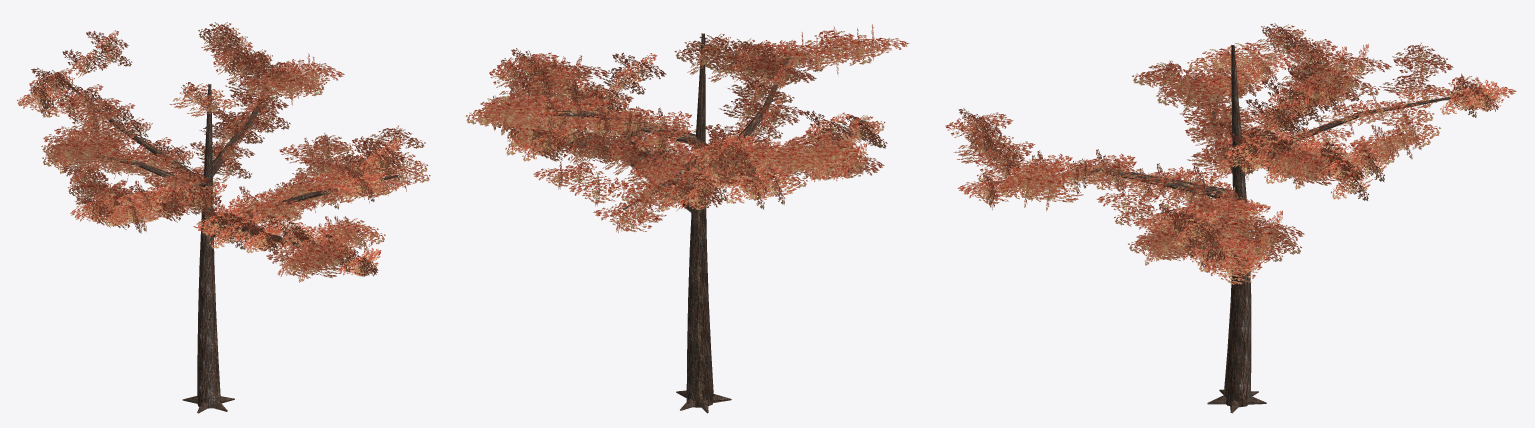
File: tree_3d_05_copper_lod1.glb
3 renders of one model, left to right at view 1: azimuth 30°, elevation 25°; view 2: azimuth 150°, elevation 25°; view 3: azimuth 270°, elevation 25°, orthographic. The views are drawn at different scales.
Visible parts, largest first — view 1: foliage_cards, wood_geometry; view 2: foliage_cards, wood_geometry; view 3: foliage_cards, wood_geometry.
Boxes of the visible parts, x1,y1,x2,y2 form: foliage_cards: (17,22,430,282); wood_geometry: (59,69,397,413); foliage_cards: (465,24,909,232); wood_geometry: (541,33,849,413); foliage_cards: (945,23,1516,284); wood_geometry: (992,45,1480,413).
Bounding box in the file's own units: 9.84 × 8.88 × 12.95.
2 materials, 2 textured.
